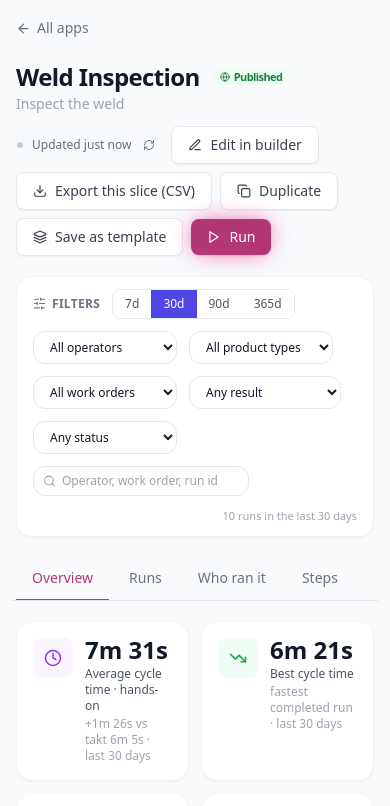
/apps/:id has one filter bar and one vocabulary › keeps every tab one click away — "Who ran it" included
This screenshot has width=390, height=806.
Click the button "Who ran it".
click(232, 579)  # box [182,557,282,601]
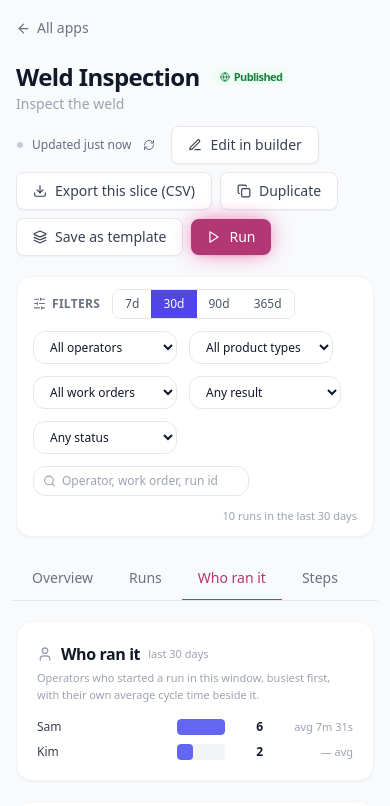
Check: the list item with test id "who-row" shows "Sam", box [37,718,62,735]
Check: the list item with test id "who-row" shows "Kim", box [37,743,59,760]
Check: the list item with test id "who-row" shows "— avg", box [321,744,353,758]
